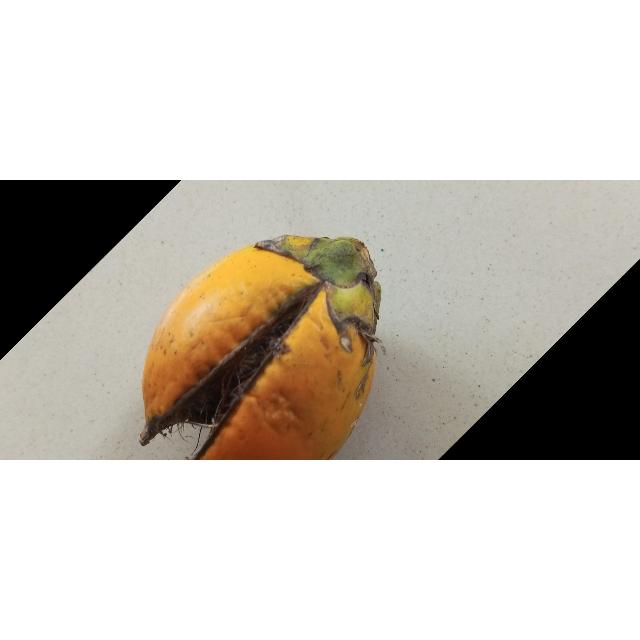damaged: (140, 235, 384, 461)
